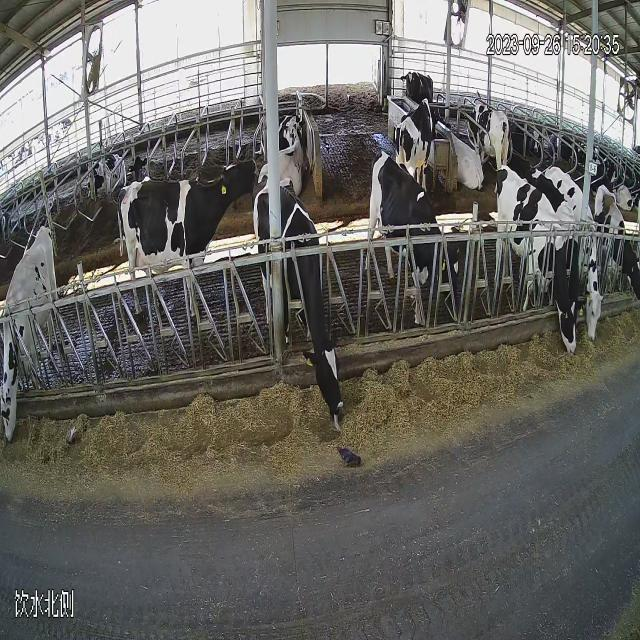drinking: (392, 96, 446, 179)
feeding: (256, 174, 349, 447), (496, 165, 584, 365), (0, 202, 64, 464), (374, 176, 468, 320)
lying down: (81, 139, 124, 206)
standing: (113, 152, 259, 348), (465, 84, 516, 162)
